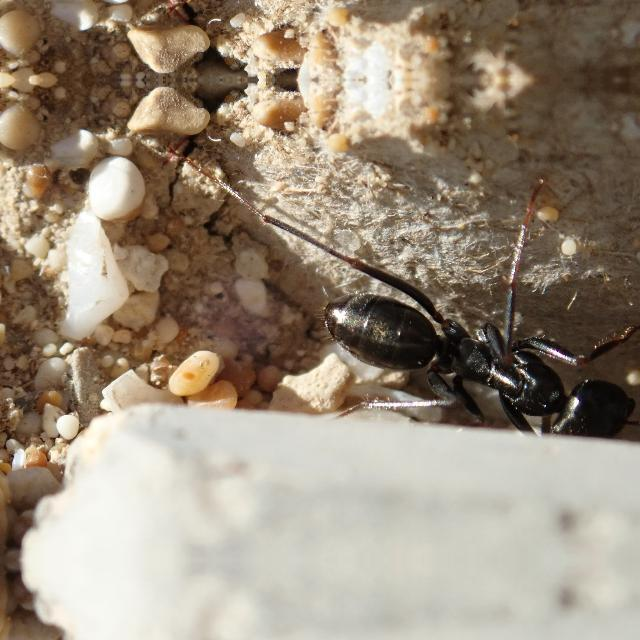Cataglyphis: (270, 239, 640, 481)
